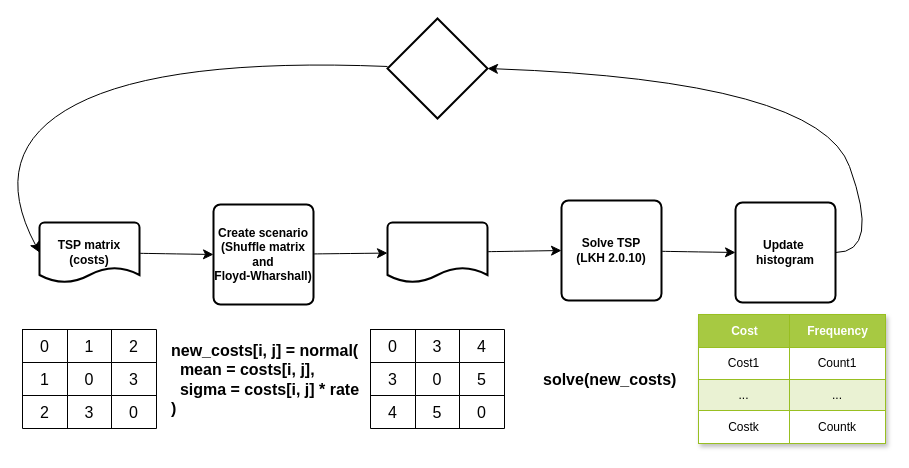
Some shapes in this 909 by 468 pixel diagram are drawn without their labels. Here are the shapes that lost their labels. From the top down, the centre of each, then its label:
[437,68]: iter <= MAX_ITER
[437,252]: New TSP matrix
